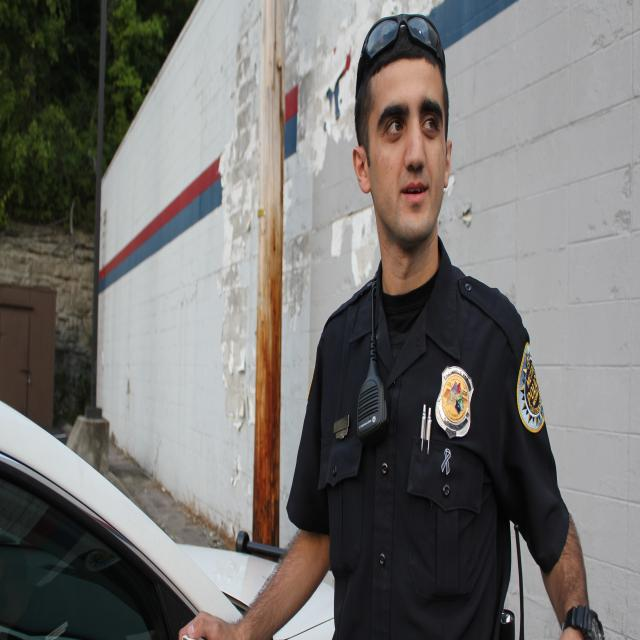police: (247, 0, 560, 640)
